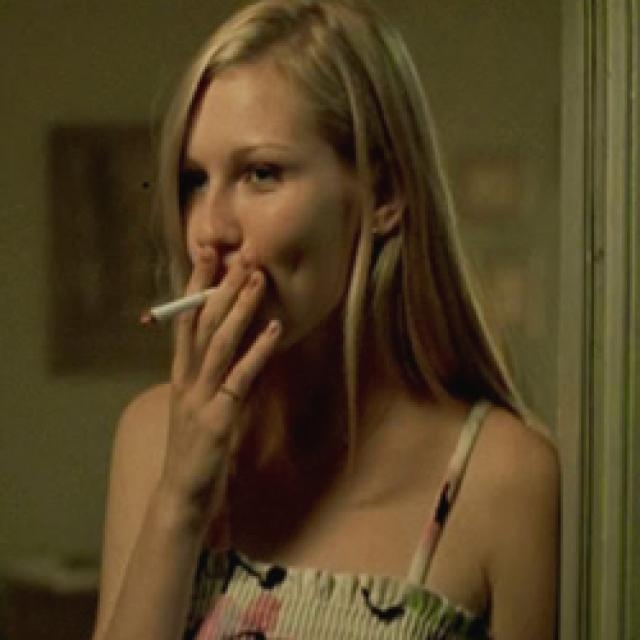Smooking: (126, 288, 233, 328)
